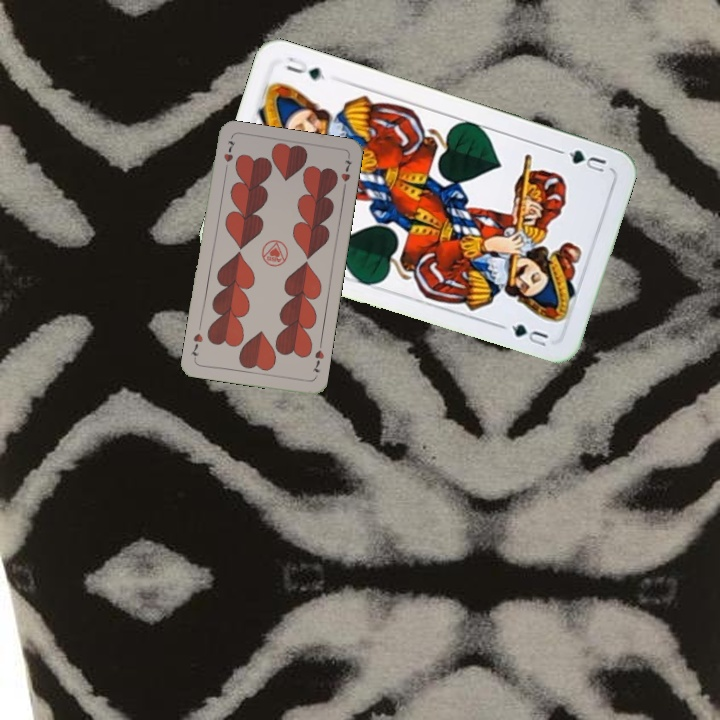GU: (555, 145, 609, 175)
H7: (220, 135, 238, 175), (309, 339, 326, 375)
